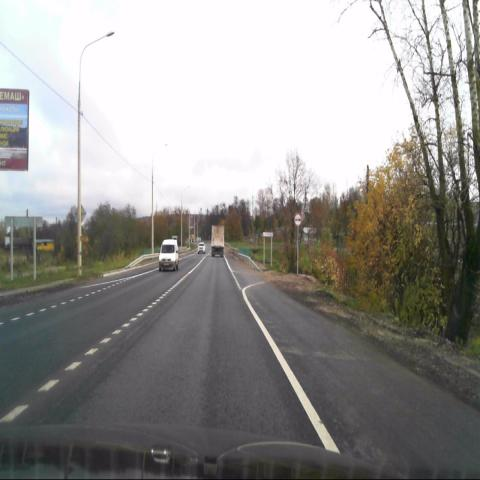3_20: (294, 213, 301, 226)
